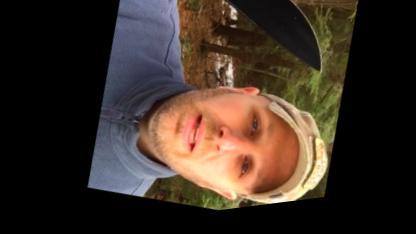knife: (105, 0, 350, 108)
